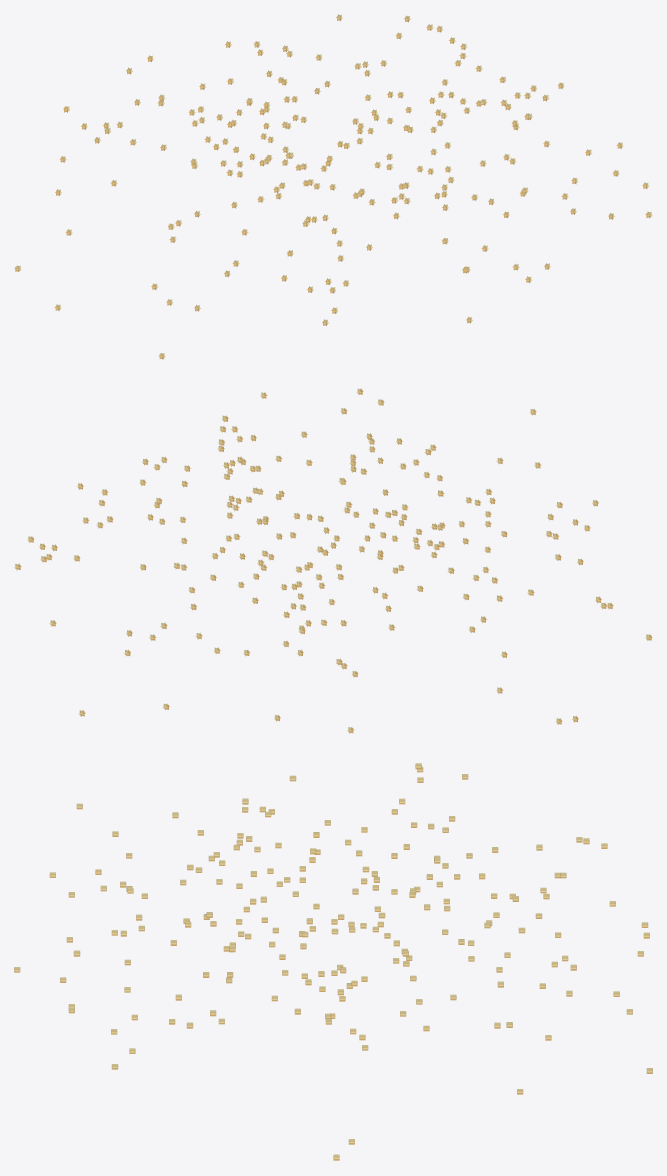
Rendered from fw_palm_gold_silver_c.glb.
The picture shows the model from 3 angles, top to bottom: view 1: azimuth 30°, elevation 25°; view 2: azimuth 150°, elevation 25°; view 3: azimuth 270°, elevation 25°; orthographic projection. The views are drawn at different scales.
Visible parts, largest first — view 1: spire; view 2: spire; view 3: spire.
Part boxes in pixels (x1,y1,x2,y2): spire: (14, 14, 652, 359); spire: (14, 388, 652, 733); spire: (14, 763, 652, 1160).
Size of the model in its own units: 20.18 by 6.77 by 18.06.
Materials: 1 (1 with a texture image).
